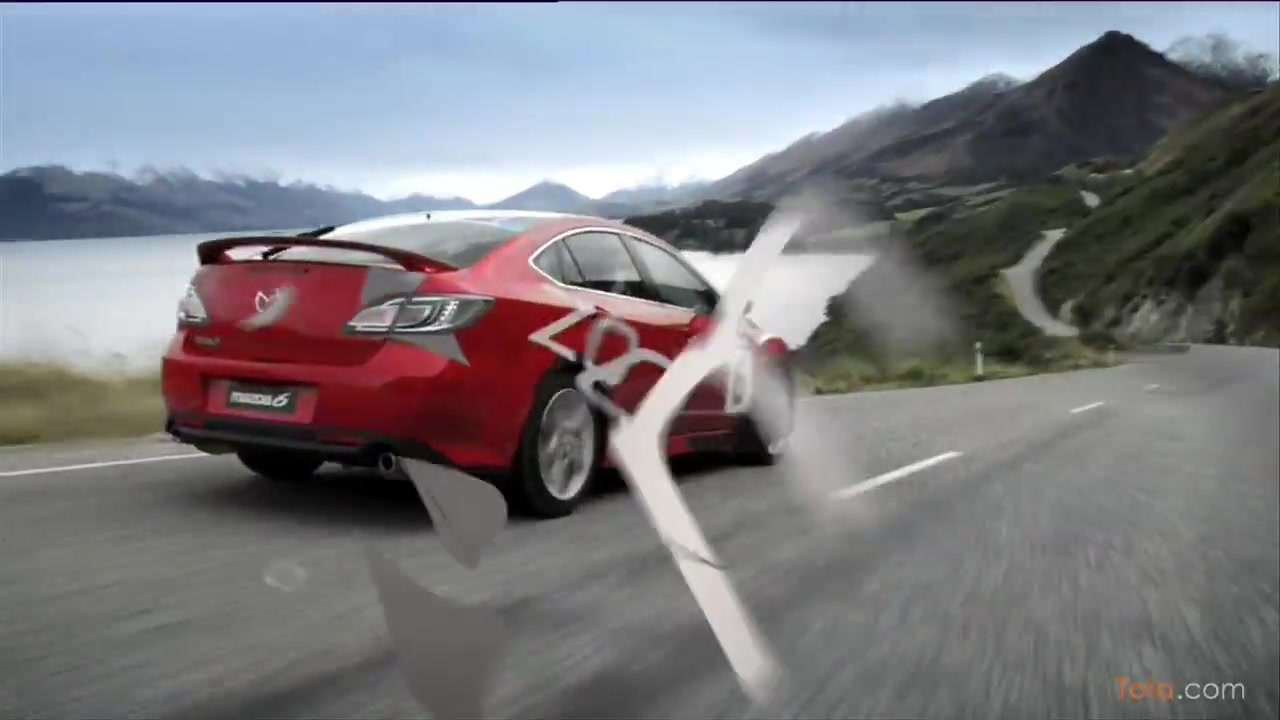car: (159, 207, 803, 526)
